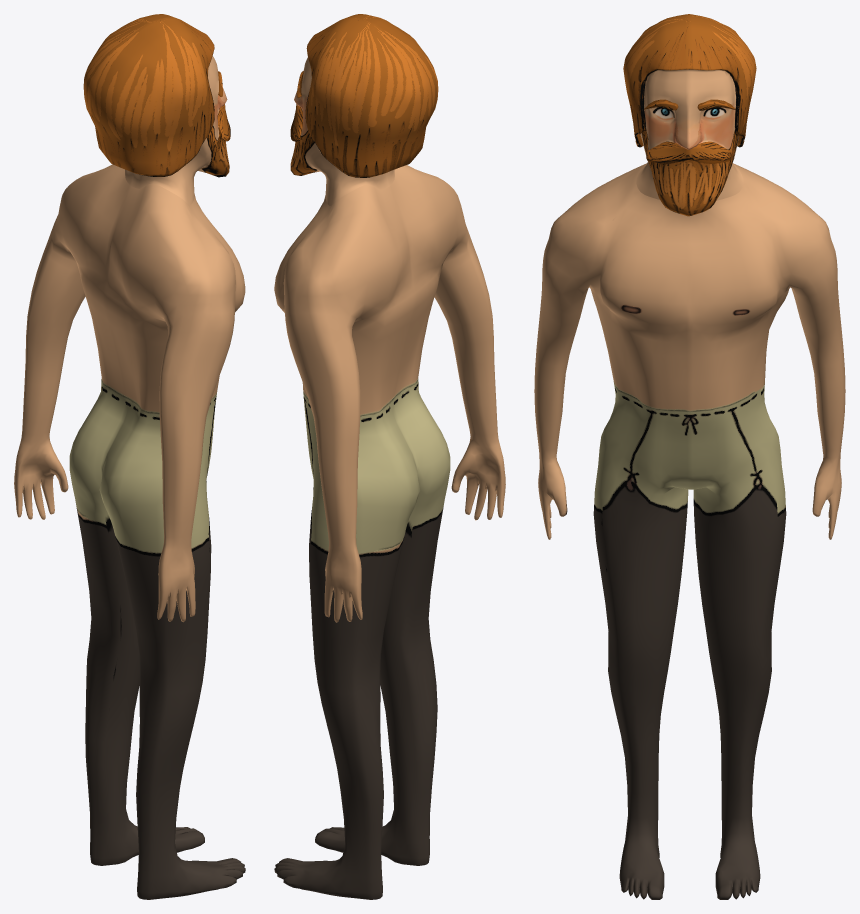
The model's file is Gustav_Vasa (1).fbx.
The picture shows the model from 3 angles, left to right: view 1: azimuth 30°, elevation 25°; view 2: azimuth 150°, elevation 25°; view 3: azimuth 270°, elevation 25°; orthographic projection.
Visible parts, largest first — view 1: polySurface1, polySurface2; view 2: polySurface1, polySurface2; view 3: polySurface1, polySurface2.
Part boxes in pixels (x1,y1,x2,y2): polySurface1: (14, 164, 245, 899); polySurface2: (83, 14, 230, 205); polySurface1: (274, 165, 505, 899); polySurface2: (290, 14, 438, 205); polySurface1: (534, 163, 845, 899); polySurface2: (623, 14, 756, 216).
Size of the model in its own units: 3.33 by 19.46 by 6.42.
